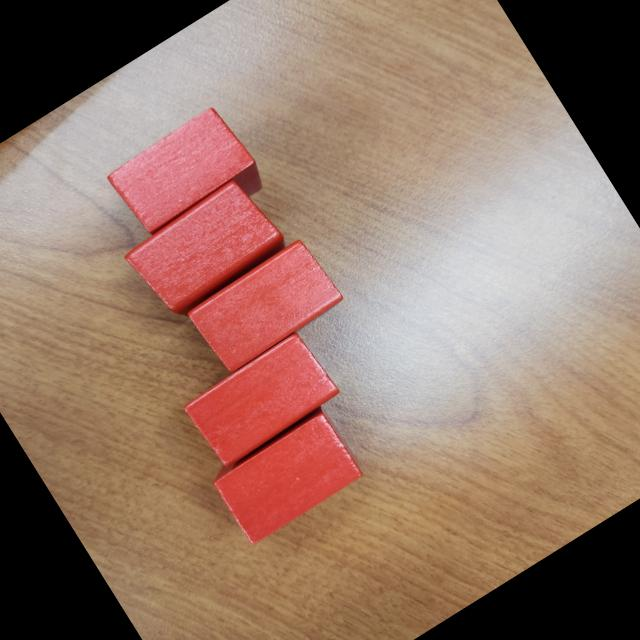red: (120, 172, 290, 324), (105, 100, 272, 254), (180, 326, 344, 469), (184, 232, 347, 375), (208, 404, 367, 547)
